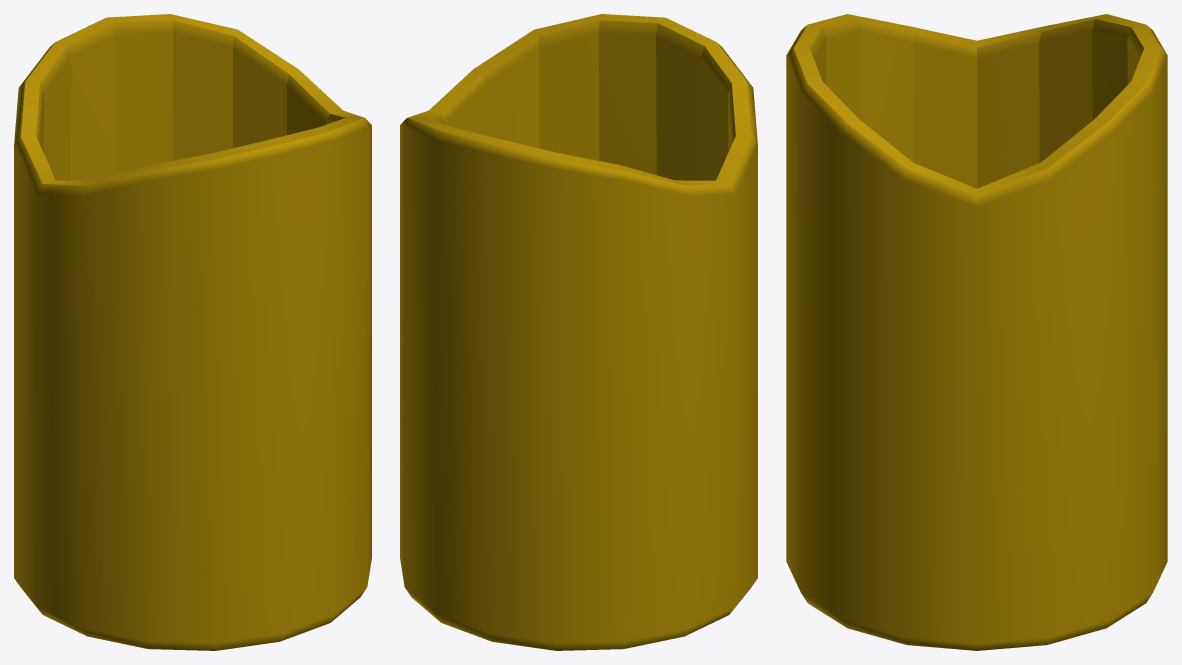
File: Toothbrush_Mug.fbx
3 renders of one model, left to right at view 1: azimuth 30°, elevation 25°; view 2: azimuth 150°, elevation 25°; view 3: azimuth 270°, elevation 25°, orthographic. The views are drawn at different scales.
Visible parts, largest first — view 1: Toothbrush_Mug; view 2: Toothbrush_Mug; view 3: Toothbrush_Mug.
Part boxes in pixels (x1,y1,x2,y2): Toothbrush_Mug: (14, 14, 371, 650); Toothbrush_Mug: (400, 14, 757, 650); Toothbrush_Mug: (786, 14, 1167, 650).
Bounding box in the file's own units: 56.71 × 86.16 × 56.71.
